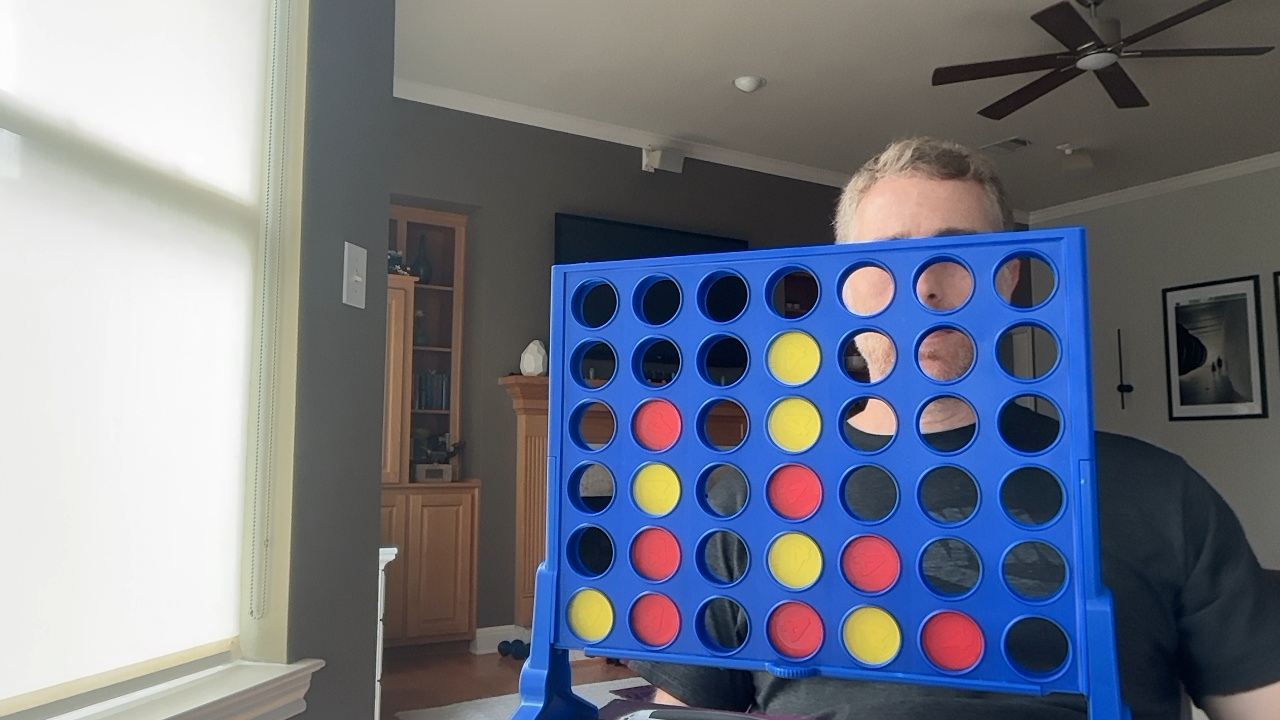red piece: (921, 611, 983, 671), (841, 535, 900, 592), (767, 601, 823, 658), (766, 464, 821, 519), (629, 593, 679, 646), (630, 527, 680, 580), (632, 400, 681, 450)
yellow piece: (843, 606, 900, 665), (767, 532, 822, 588), (767, 331, 820, 385), (767, 397, 820, 451), (632, 463, 680, 515), (567, 589, 613, 642)
